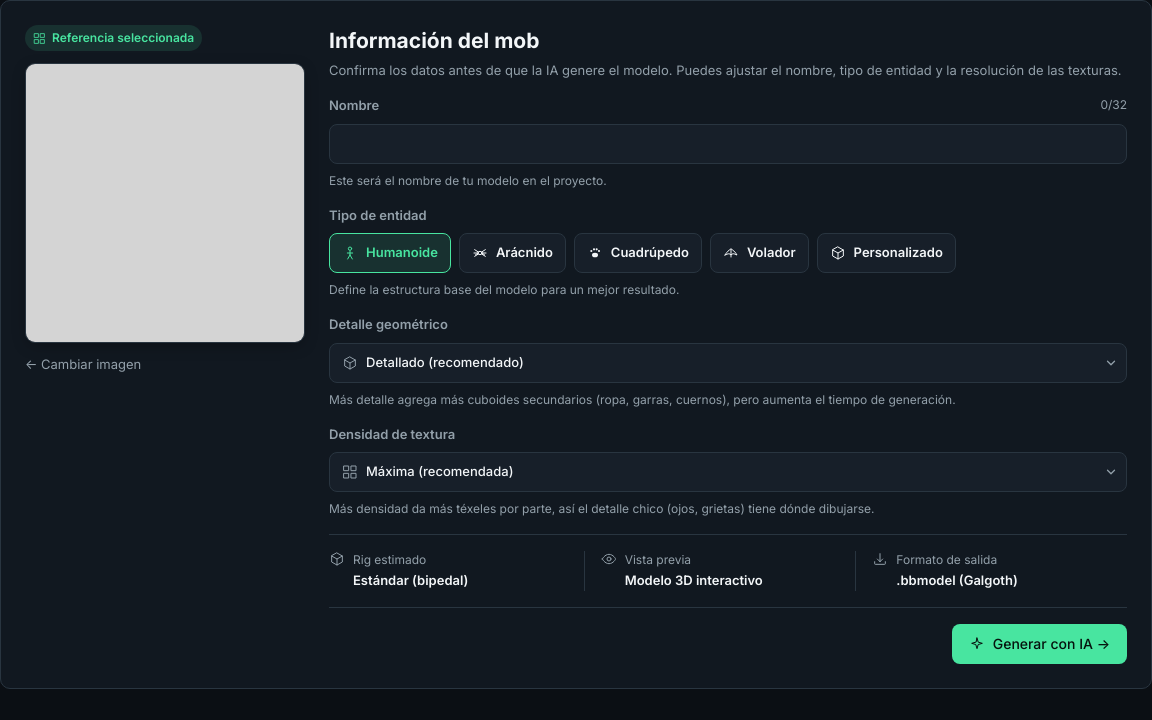
ConfigurationStep.vue › rediseño post-074 › "Rig estimado" cambia según el tipo de entidad elegido (decisión del PO)
The image size is (1152, 720).
Click the button with class "configuration-step__base-type" showing "Arácnido": (512, 253) [459,233,566,273]
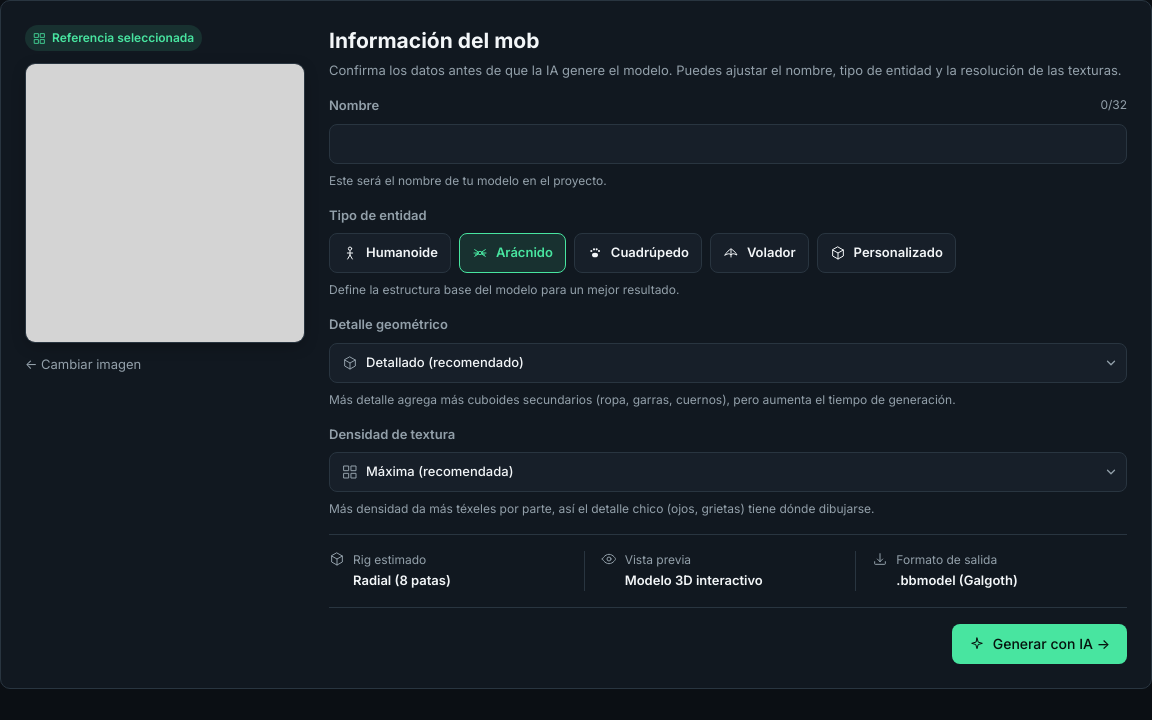
Result: the text "Radial (8 patas)" is shown at [353,571,451,590]
Click the button with class "configuration-step__base-type" showing "Volador": (759, 253) [710,233,809,273]
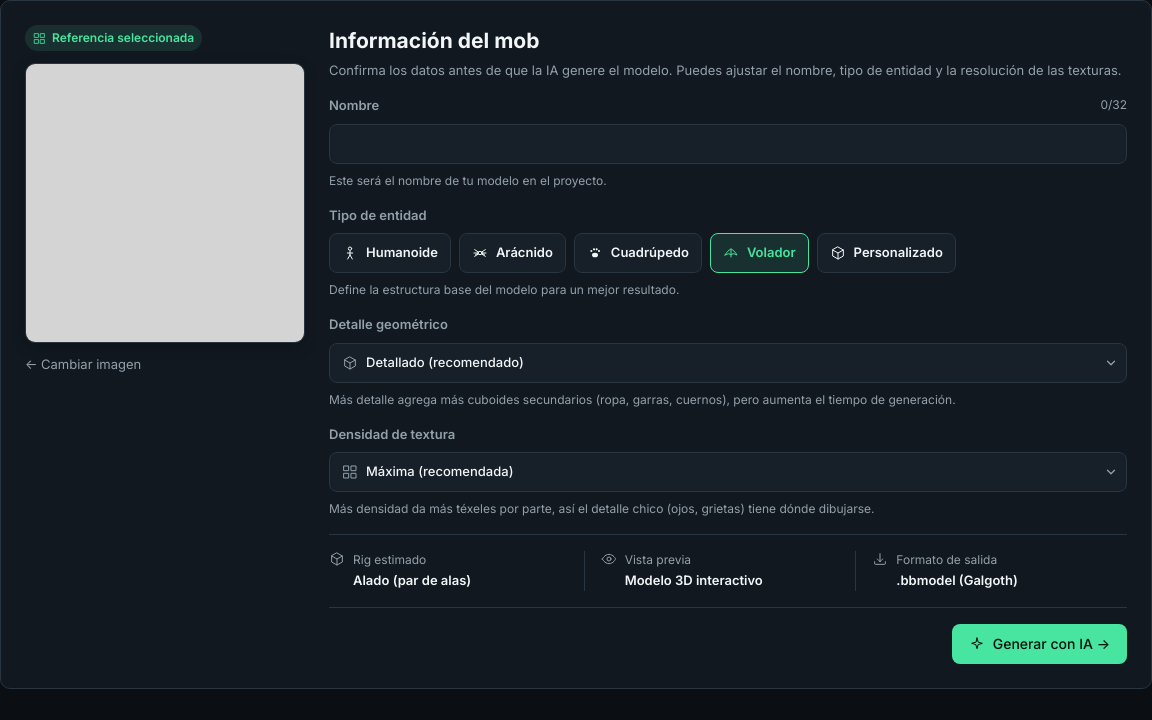
Result: the text "Alado (par de alas)" is shown at [353,571,471,590]
